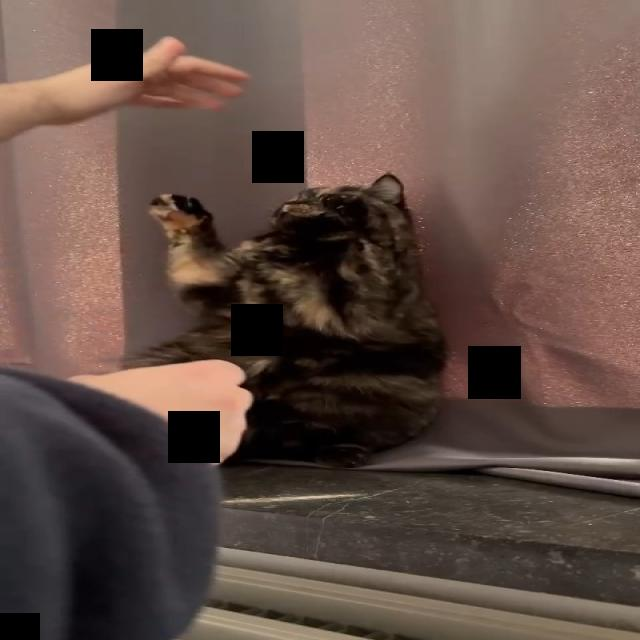authorized: (119, 171, 448, 469)
